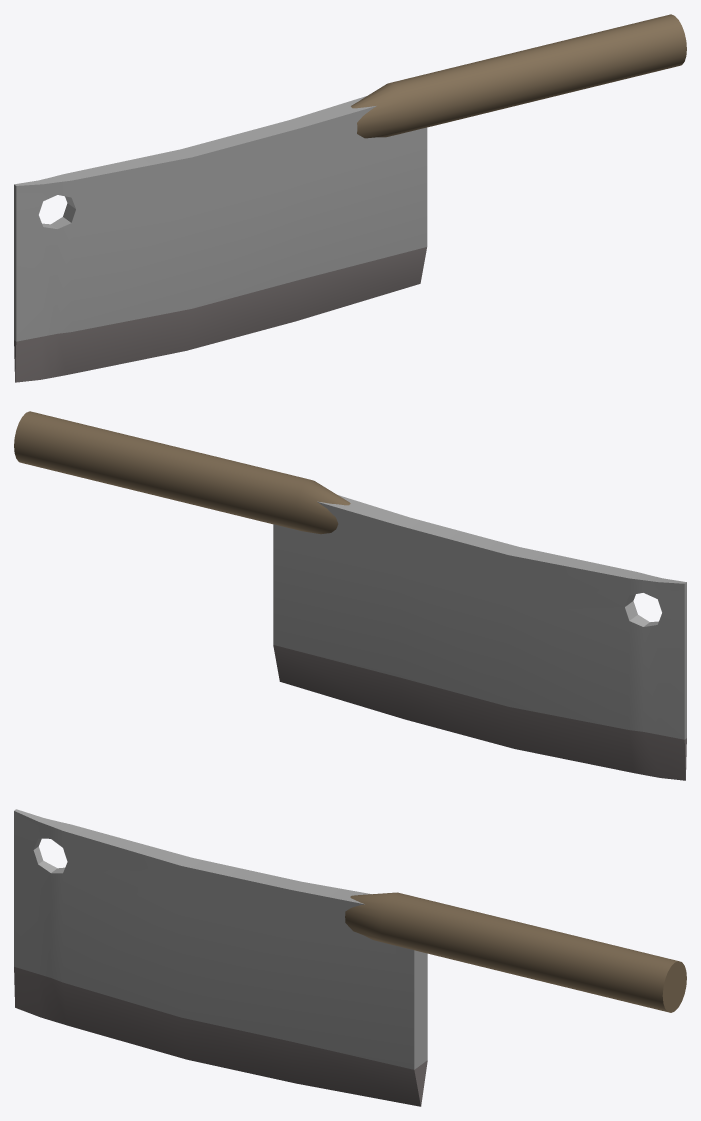
The model's file is KnifeButcher.fbx.
3 views of the same model, one above another, from view 1: azimuth 30°, elevation 25°; view 2: azimuth 150°, elevation 25°; view 3: azimuth 330°, elevation 25° (orthographic).
Visible parts, largest first — view 1: Butcherknife; view 2: Butcherknife; view 3: Butcherknife.
Boxes of the visible parts, left/top/right/bottom form: Butcherknife: left=14, top=14, right=686, bottom=382; Butcherknife: left=14, top=411, right=686, bottom=780; Butcherknife: left=14, top=809, right=686, bottom=1106.
Size of the model in its own units: 28.28 by 8.86 by 1.8.
